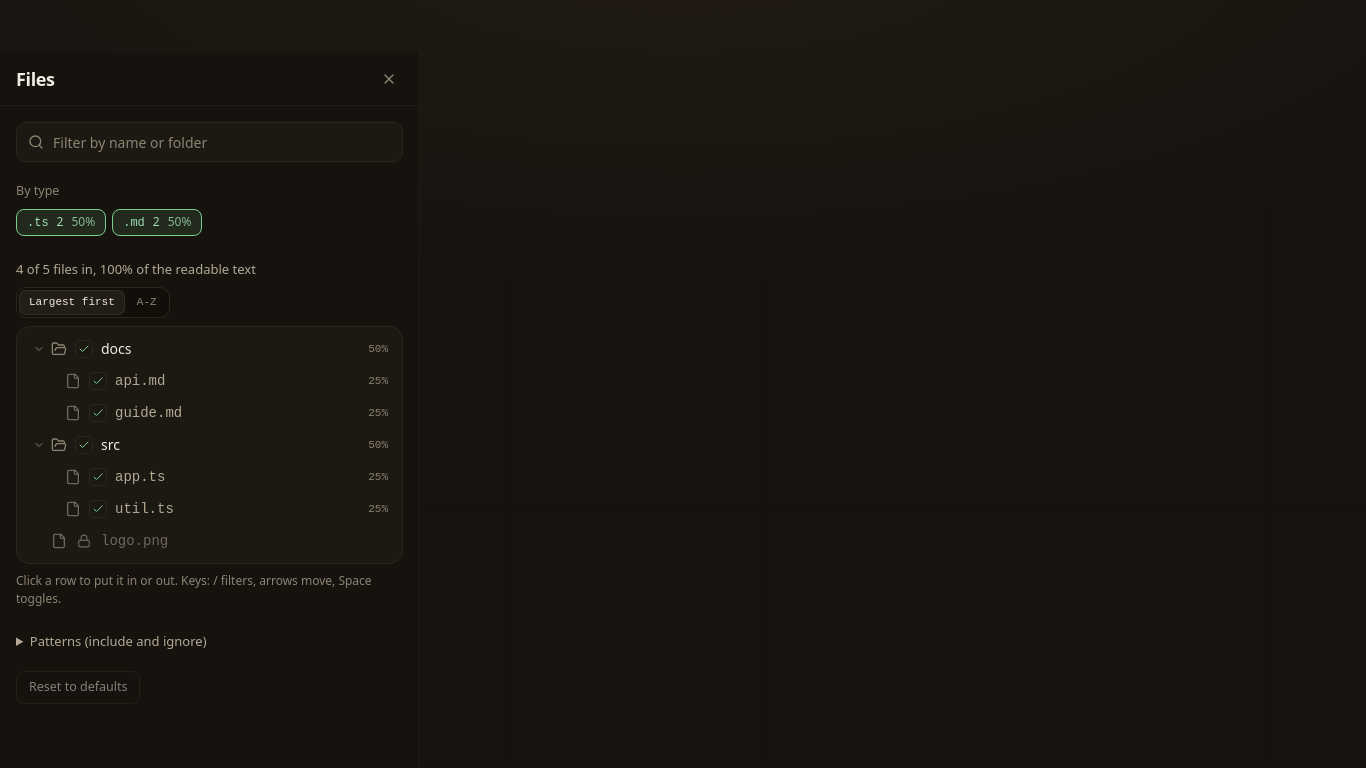
Scenario: the Files pane › takes a whole type out with its chip, never touching the locked binary
Click the button ".md 2 50%" at [157, 222], box [112, 209, 202, 236]
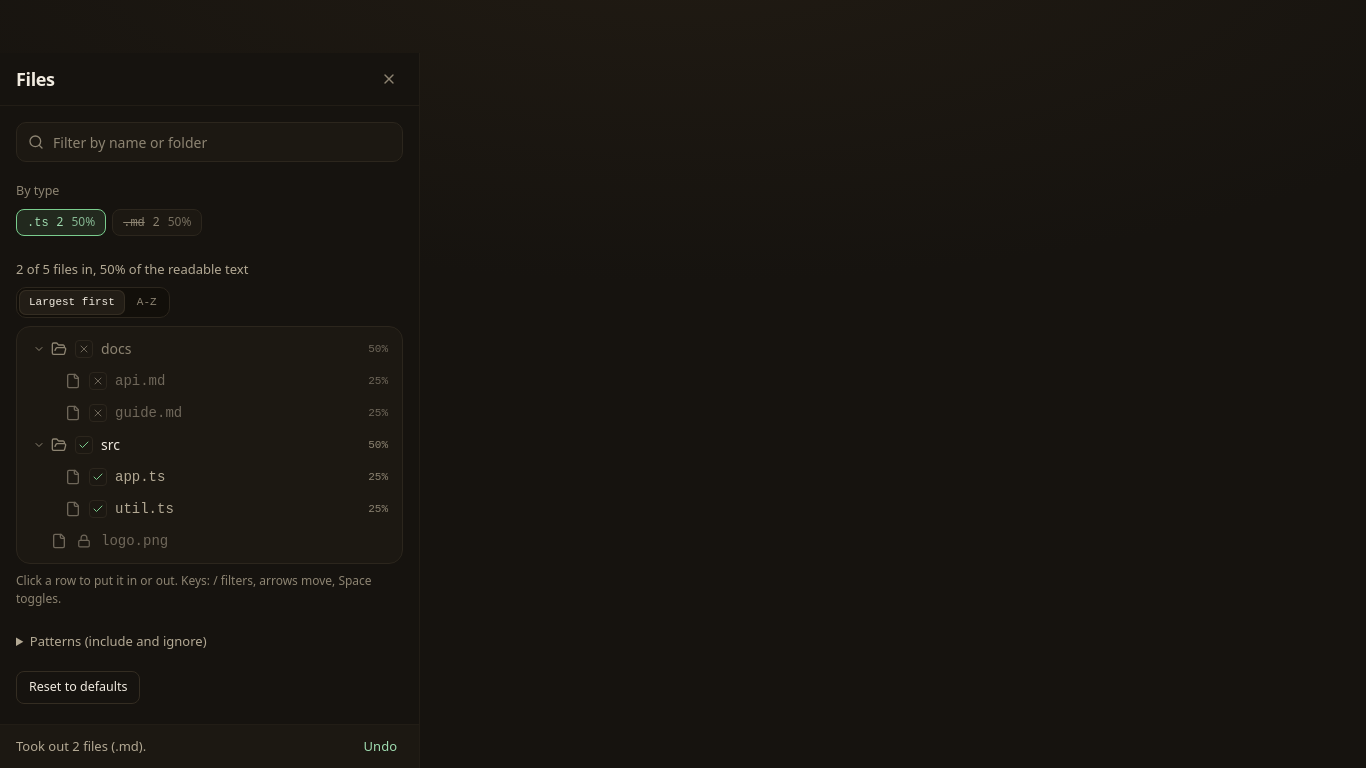
Result: the text "2 of 5 files in, 50% of the readable text" is shown at [16, 260, 248, 279]
Click the button ".md 2 50%" at [157, 222], box [112, 209, 202, 236]
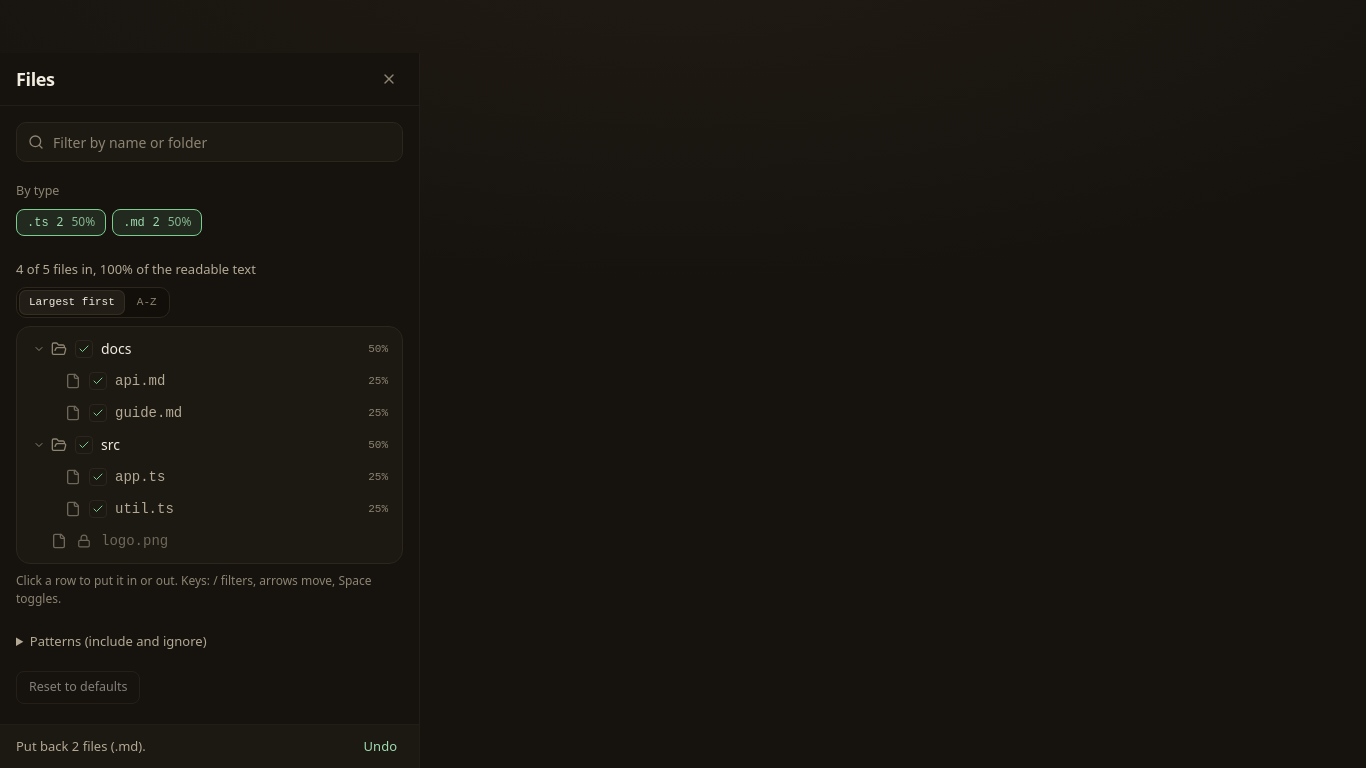
Result: the text "4 of 5 files in, 100% of the readable text" is shown at [16, 260, 256, 279]
